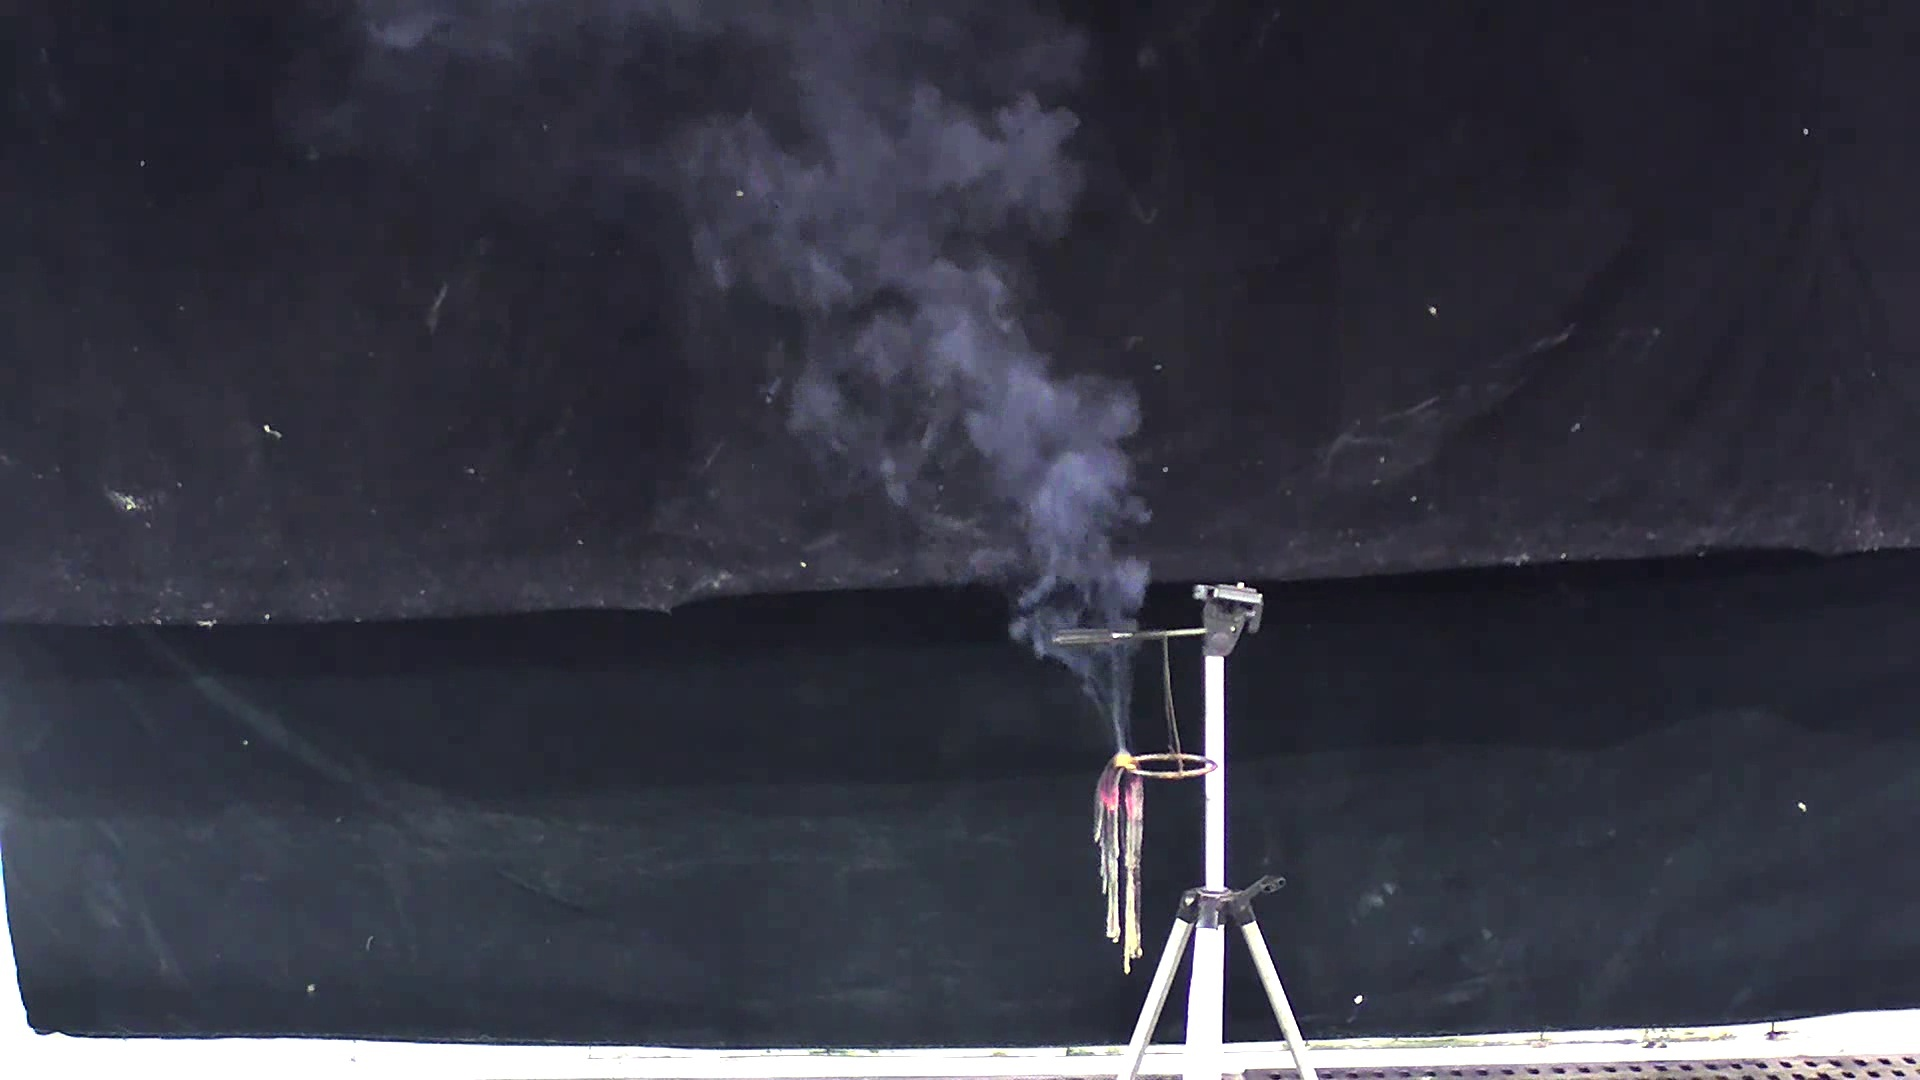smoke: (650, 55, 1160, 746)
